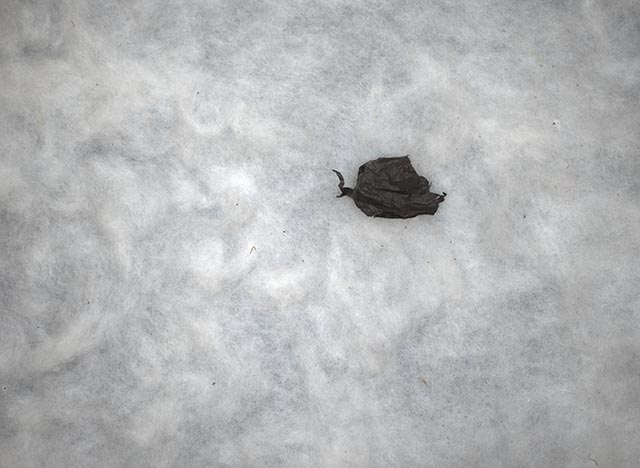plastic film: (331, 155, 447, 220)
